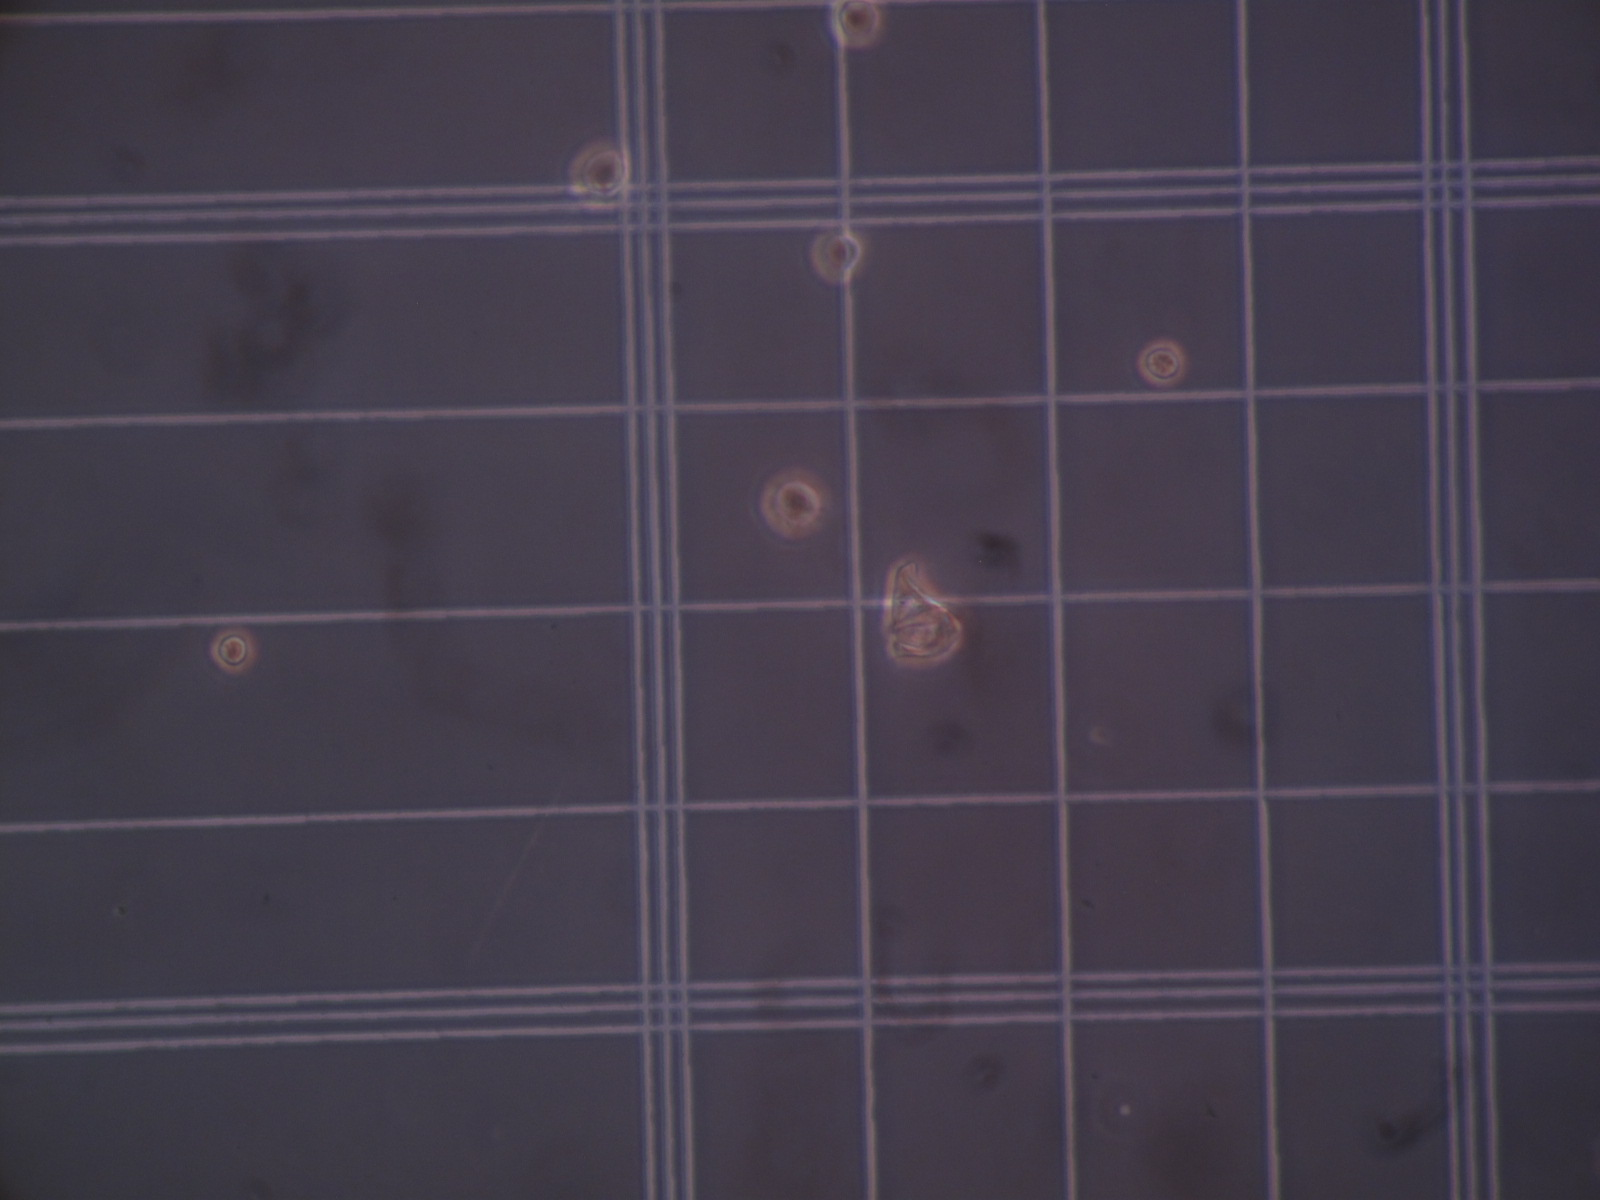hemo: (760, 466, 829, 539), (567, 140, 631, 212), (810, 229, 864, 284), (829, 3, 884, 49), (1136, 339, 1186, 386), (210, 628, 256, 673)
